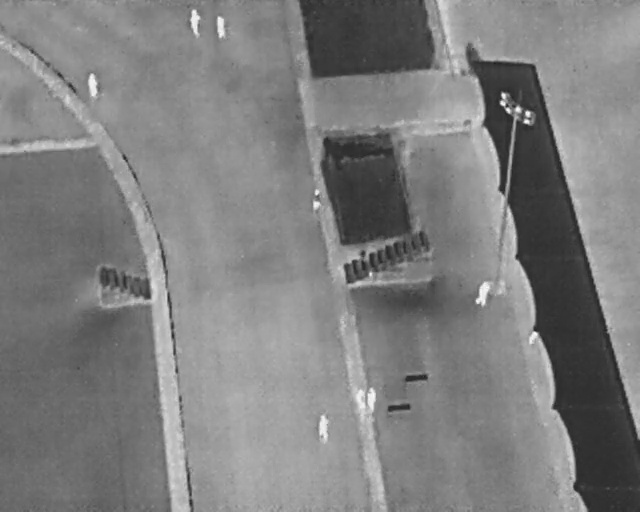Person: (185, 8, 203, 37), (475, 281, 490, 309), (85, 71, 98, 97), (318, 415, 331, 439), (215, 16, 226, 38), (311, 189, 322, 211), (357, 388, 366, 411), (368, 385, 375, 413)
